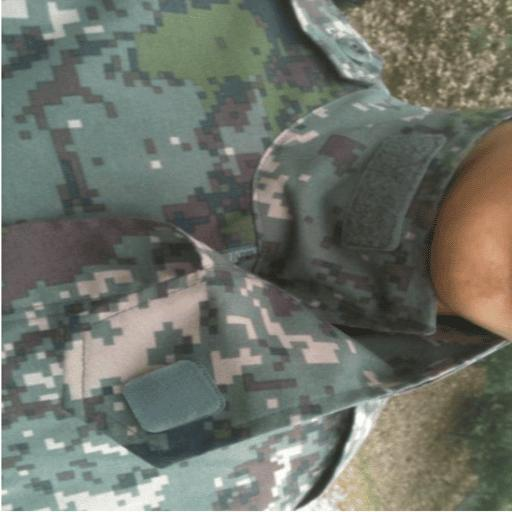korea army: (2, 2, 505, 509)
